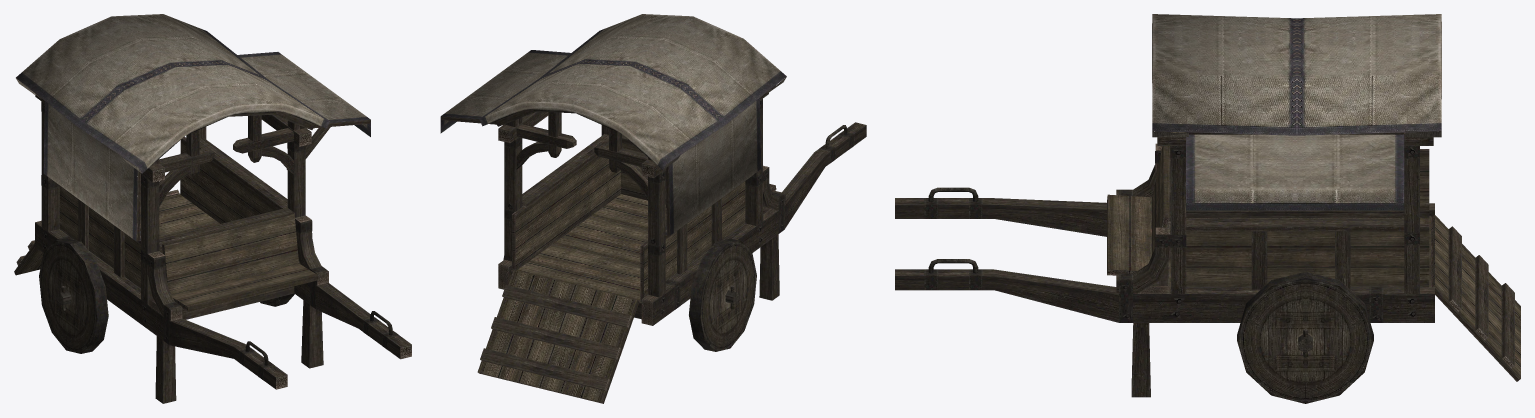
The model's file is eso_gu10_Cart-transformed.glb.
The picture shows the model from 3 angles, left to right: view 1: azimuth 30°, elevation 25°; view 2: azimuth 150°, elevation 25°; view 3: azimuth 270°, elevation 25°; orthographic projection. The views are drawn at different scales.
Visible parts, largest first — view 1: default; view 2: default; view 3: default.
Part boxes in pixels (box(x1,y1,x2,y2)): default: box(14, 14, 411, 403); default: box(440, 14, 866, 403); default: box(895, 14, 1520, 403).
Bounding box in the file's own units: 3.3 × 3.29 × 5.84.
Materials: 2 (2 with a texture image).
